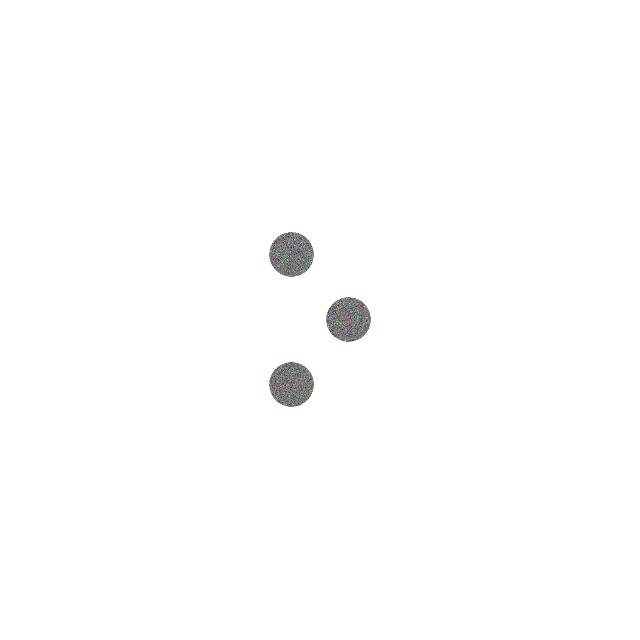O: (265, 228, 374, 413)
